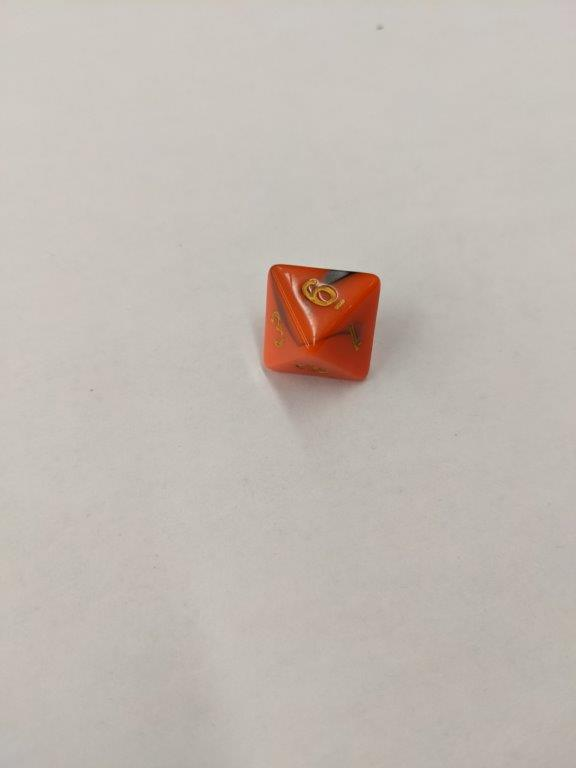d8-6: (257, 262, 385, 389)
